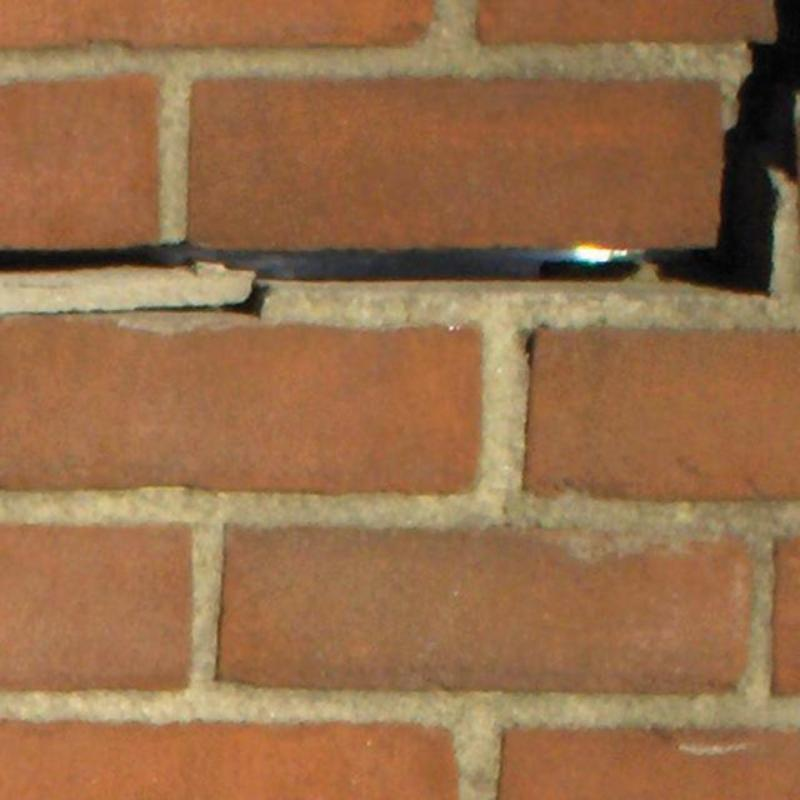pothole: (646, 0, 799, 291), (0, 241, 644, 280), (5, 281, 269, 316)
